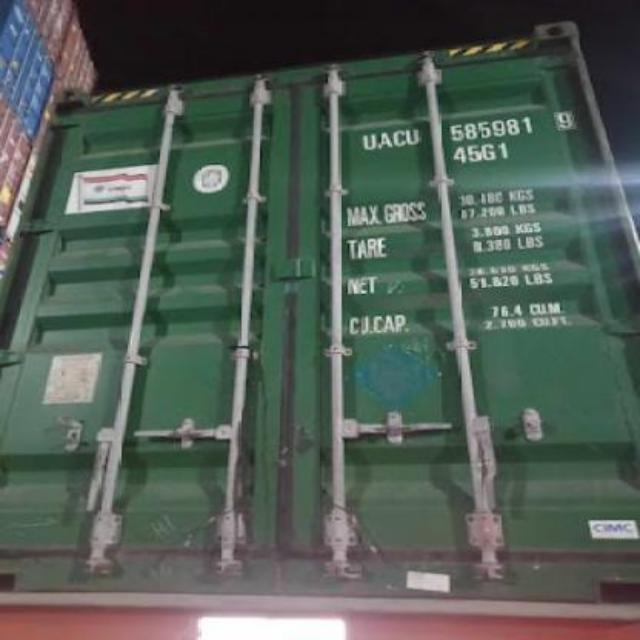1: (522, 112, 532, 134)
5: (476, 115, 492, 141), (448, 118, 462, 144)
8: (464, 119, 476, 143), (506, 114, 518, 138)
9: (556, 111, 578, 132), (491, 115, 504, 139)
A: (376, 128, 392, 156)
C: (390, 128, 406, 148)
U: (404, 123, 422, 153), (358, 130, 378, 154)
